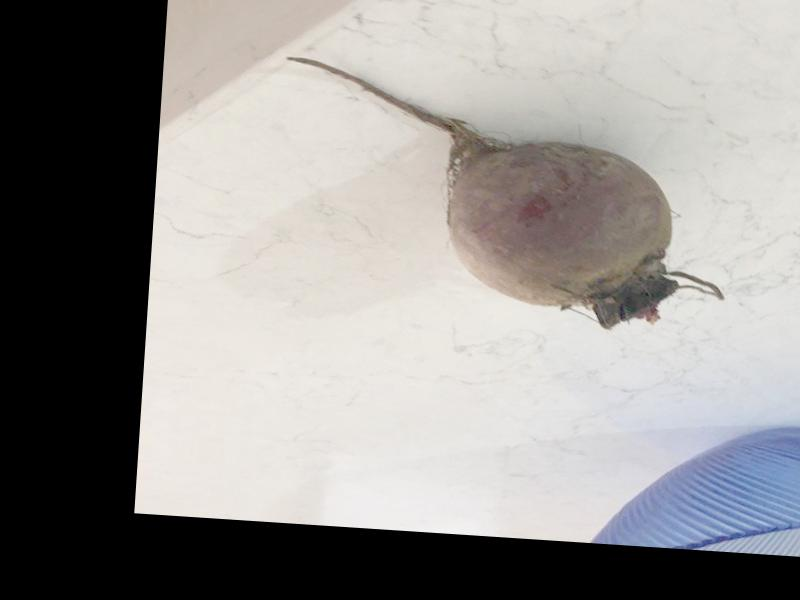Beet: (272, 54, 735, 334)
